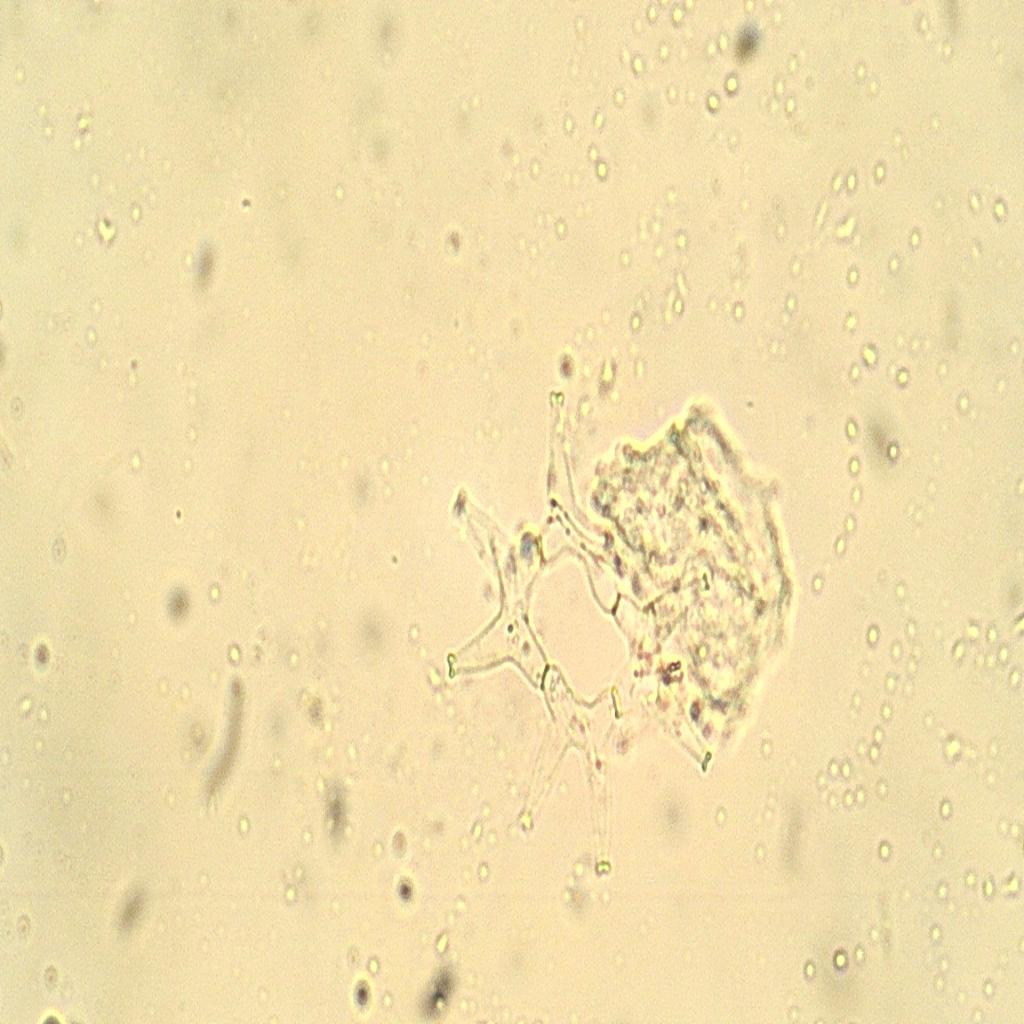Pediastrum_75TH: (433, 362, 741, 920)
